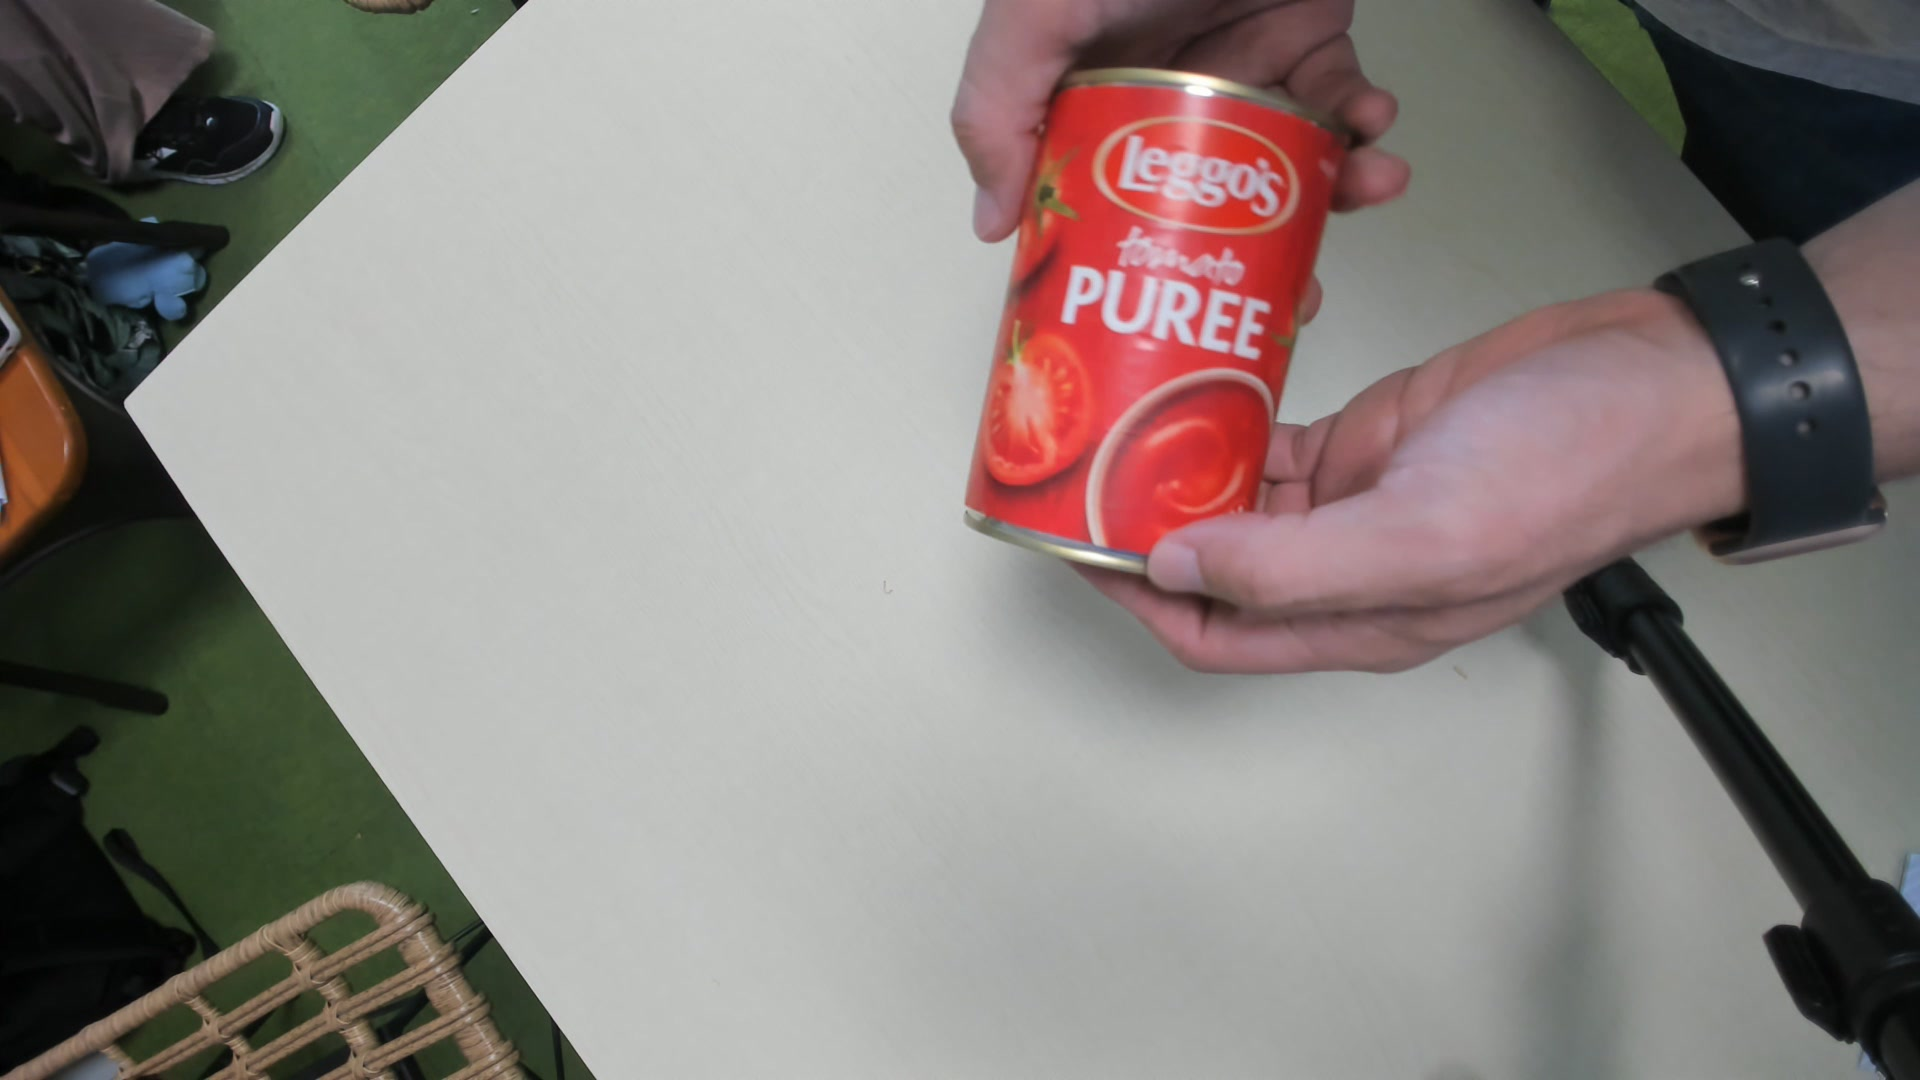OtherSauceDressingSoupbasePaste_400-499g_Halal_NonHealthy: (953, 59, 1348, 601)
